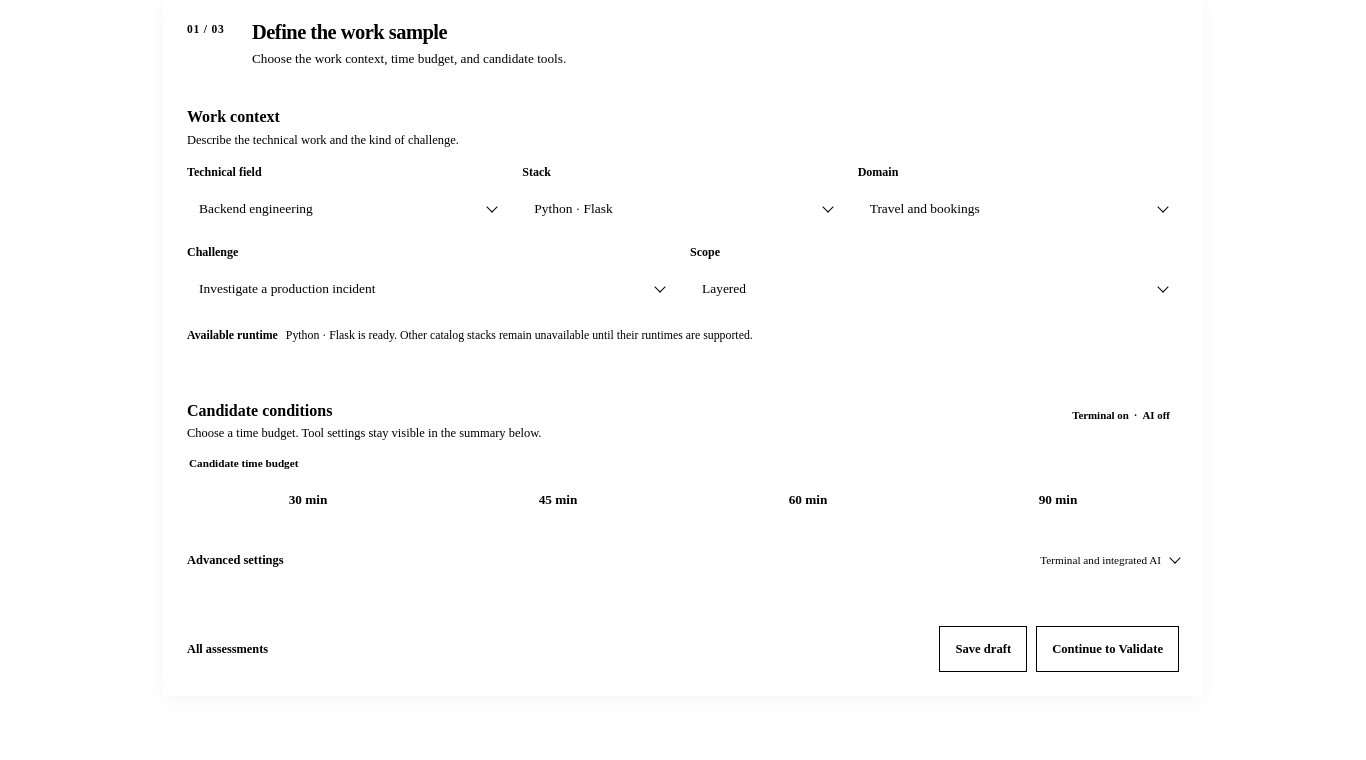
Test case: assessment builder › classifies provider unavailability and offers a safe retry
(page scrolled)
Click the button "Continue to Validate" at (1108, 650), box [1036,626,1179,672]
(page scrolled)
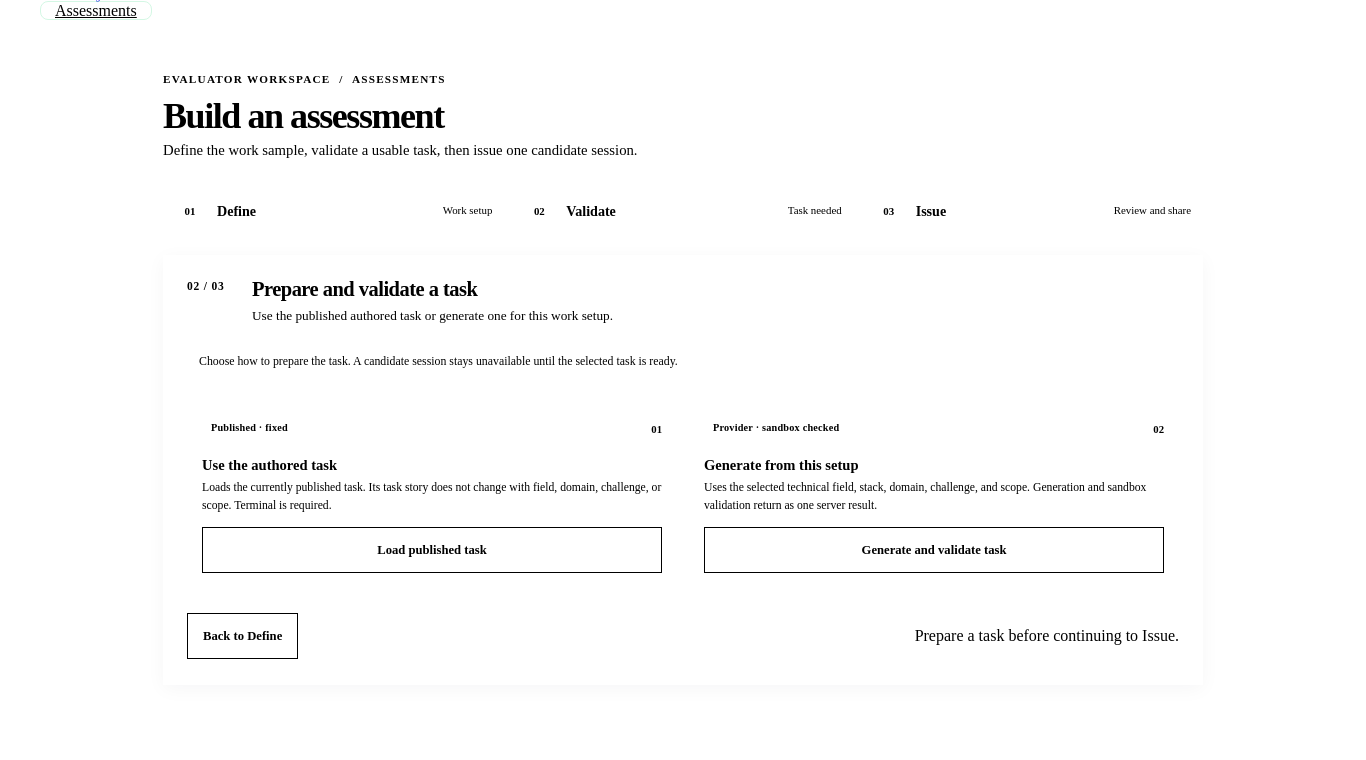
Click the button "Generate and validate task" at (934, 550), box [704,527,1164,573]
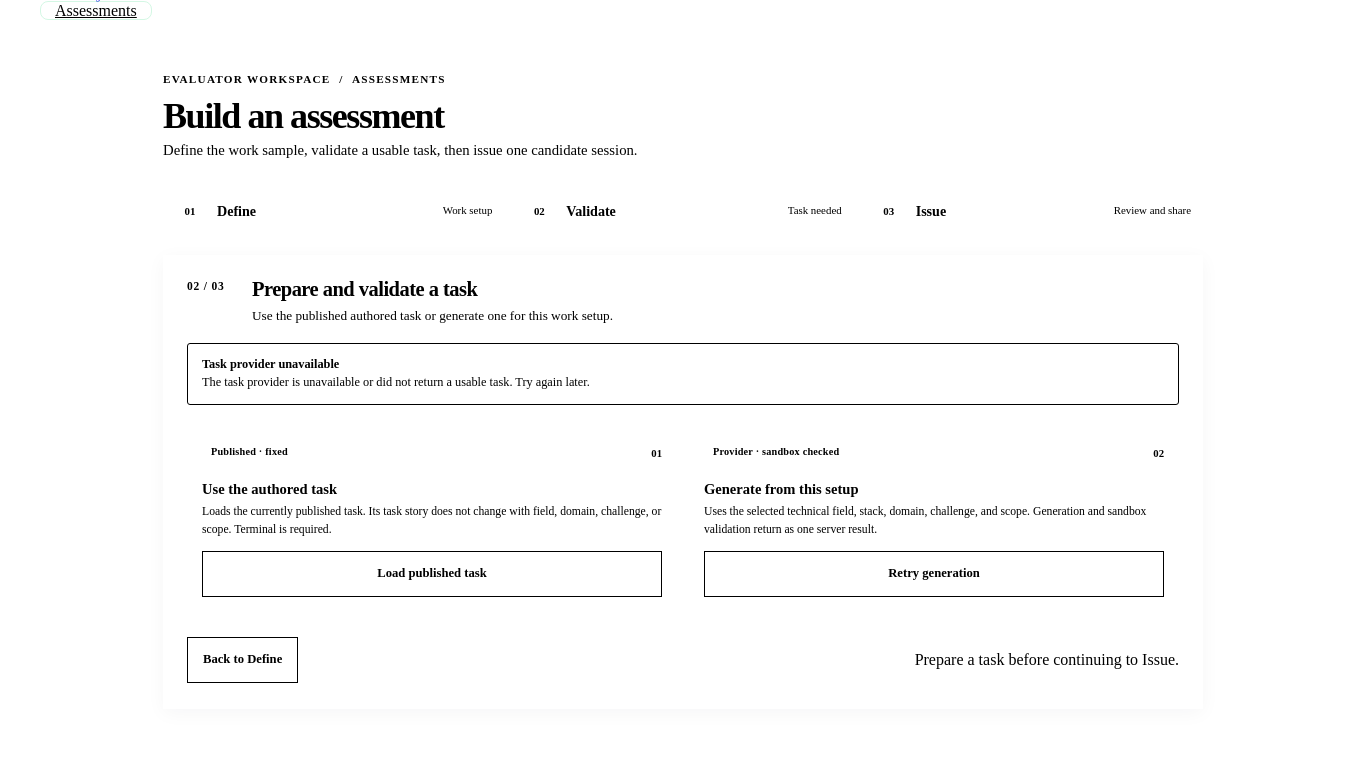
expect the button "Retry generation" is enabled: met, box [704,551,1164,597]
expect the text "Task provider unavailable" is shown: met, box [202,357,339,371]
expect the text "The task provider is unavailable or did not return a usable task." is shown: met, box [202,375,590,389]
